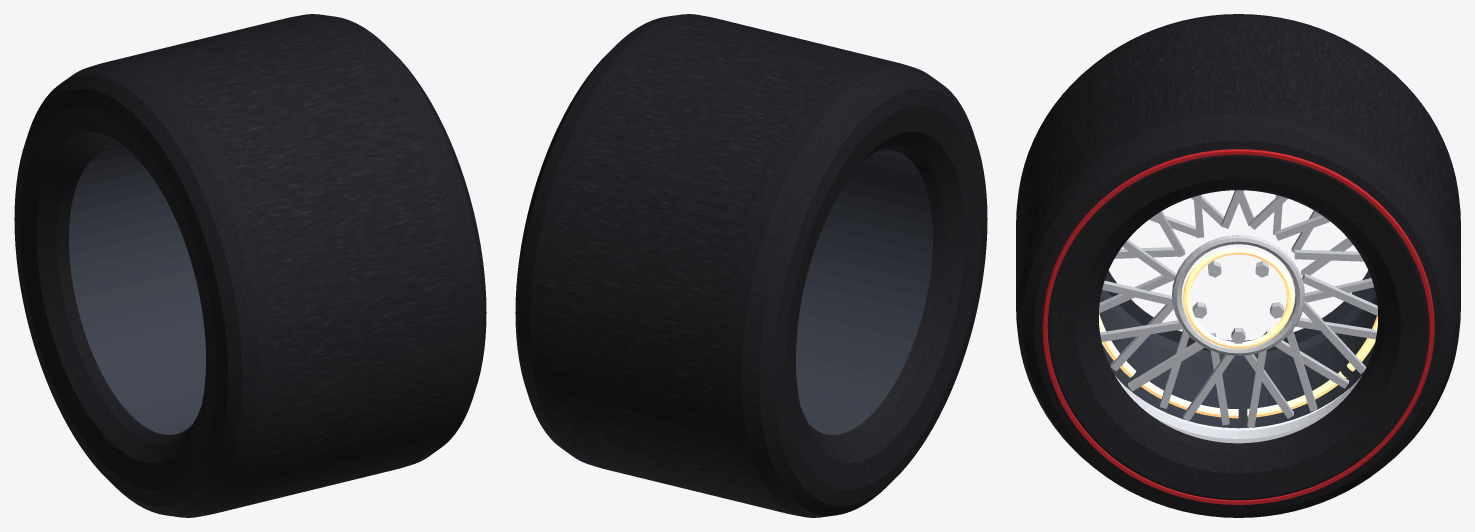
File: tyre-mesh.glb
3 views of the same model, side by side, from view 1: azimuth 30°, elevation 25°; view 2: azimuth 150°, elevation 25°; view 3: azimuth 270°, elevation 25° (orthographic). The views are drawn at different scales.
Parts seen in each view (by area): view 1: Tyre_Rubber, Rim; view 2: Tyre_Rubber, Rim; view 3: Tyre_Rubber, Rim_Spokes, Rim, Tyre_Stripe, Chrome, Rim_Lip, LED_Ring, LED_Seg_1, LED_Seg_8.
Boxes of the visible parts, x1,y1,x2,y2 form: Tyre_Rubber: (14, 14, 486, 517); Rim: (69, 150, 205, 434); Tyre_Rubber: (515, 14, 987, 517); Rim: (796, 150, 932, 434); Tyre_Rubber: (1016, 14, 1460, 517); Rim_Spokes: (1099, 190, 1377, 427); Rim: (1099, 270, 1377, 428); Tyre_Stripe: (1042, 149, 1434, 504); Chrome: (1172, 235, 1304, 355); Rim_Lip: (1115, 376, 1361, 443); LED_Ring: (1183, 247, 1293, 348); LED_Seg_1: (1141, 381, 1238, 418); LED_Seg_8: (1247, 371, 1346, 417).
Size of the model in its own units: 0.1804 by 0.274 by 0.274.
Materials: 16 (1 with a texture image).
